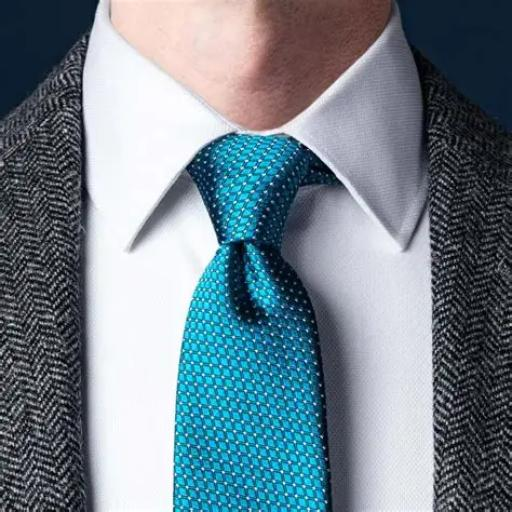person: (0, 0, 512, 512)
tie: (171, 132, 339, 511)
